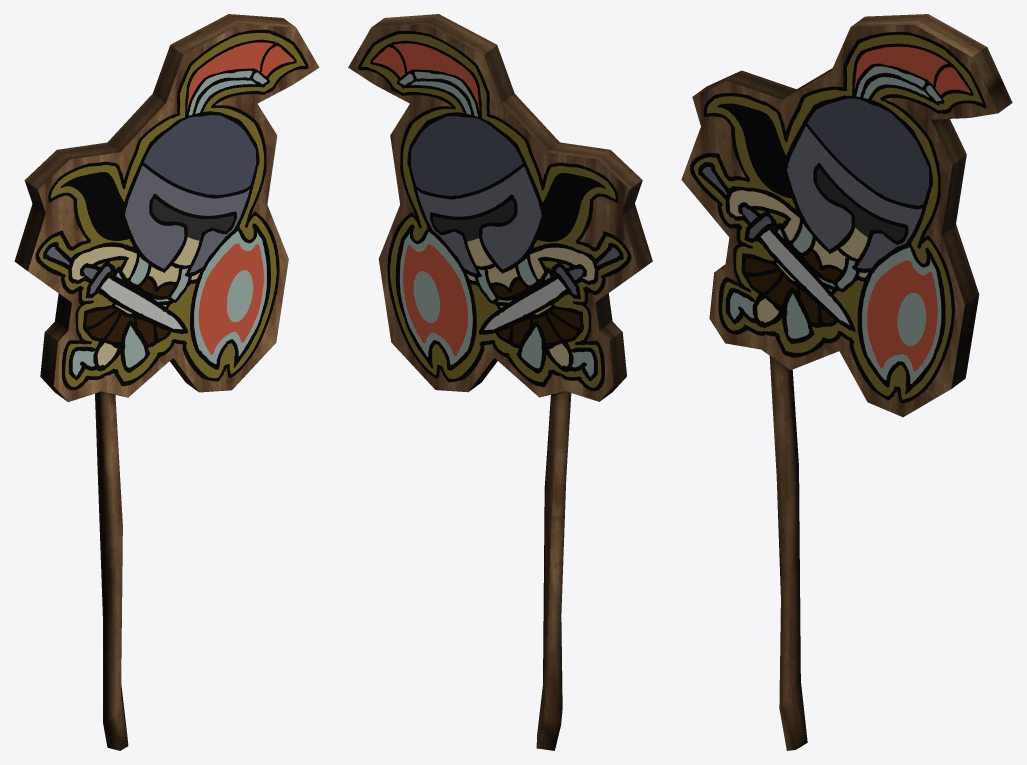
The model's file is unit_run_F.fbx.
3 views of the same model, side by side, from view 1: azimuth 30°, elevation 25°; view 2: azimuth 150°, elevation 25°; view 3: azimuth 330°, elevation 25° (orthographic). The views are drawn at different scales.
Parts seen in each view (by area): view 1: Pancarte_unit_run_F:Mesh; view 2: Pancarte_unit_run_F:Mesh; view 3: Pancarte_unit_run_F:Mesh.
Boxes of the visible parts, x1,y1,x2,y2 form: Pancarte_unit_run_F:Mesh: (14, 14, 319, 750); Pancarte_unit_run_F:Mesh: (348, 14, 652, 750); Pancarte_unit_run_F:Mesh: (681, 14, 1012, 750).
Bounding box in the file's own units: 10.58 × 24.27 × 0.9677.
